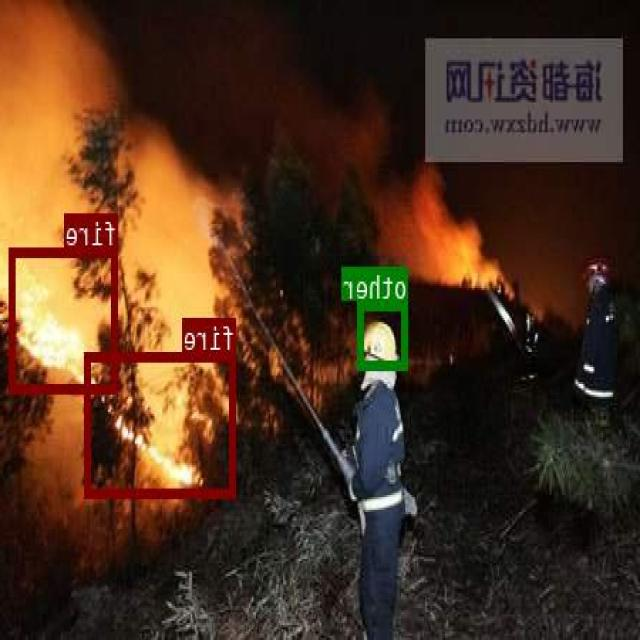fire: (86, 350, 238, 495), (10, 247, 120, 392)
other: (360, 299, 410, 368)
